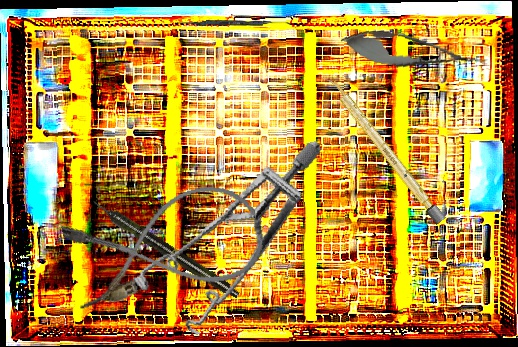Cannula: (59, 176, 269, 314)
Handpiece: (88, 195, 243, 302)
Micro Scissor: (338, 22, 491, 81)
Scalpel Handle: (325, 74, 446, 226)
Spatula Surgical: (176, 18, 293, 28)
Speculum: (110, 140, 358, 347)
